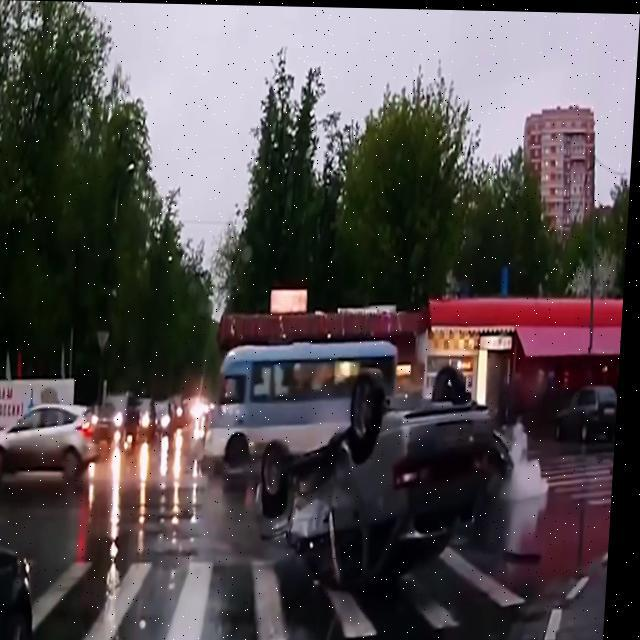single accident: (238, 355, 522, 600)
